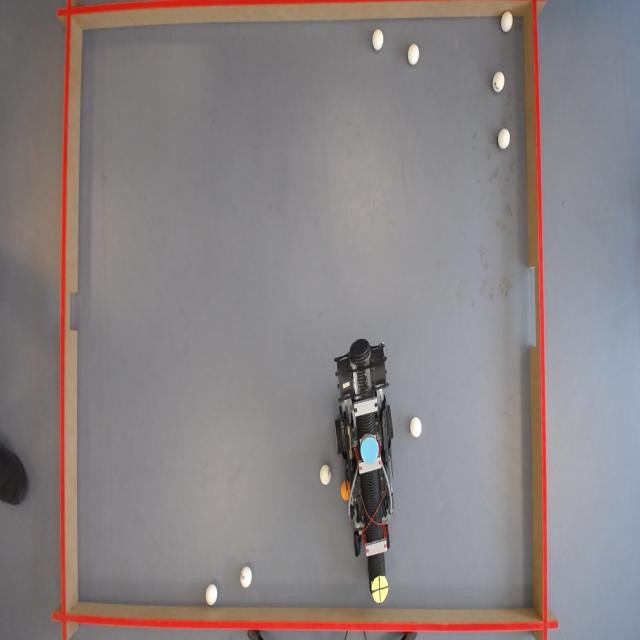orange: (340, 480, 351, 500)
robot: (332, 338, 403, 604)
robot-front: (372, 576, 390, 606)
robot-rear: (359, 437, 379, 468)
white: (206, 585, 220, 608), (240, 565, 253, 589), (408, 45, 422, 67), (497, 130, 511, 151), (500, 10, 513, 32), (373, 29, 386, 51), (493, 71, 506, 93), (319, 465, 332, 485), (410, 417, 422, 437)
